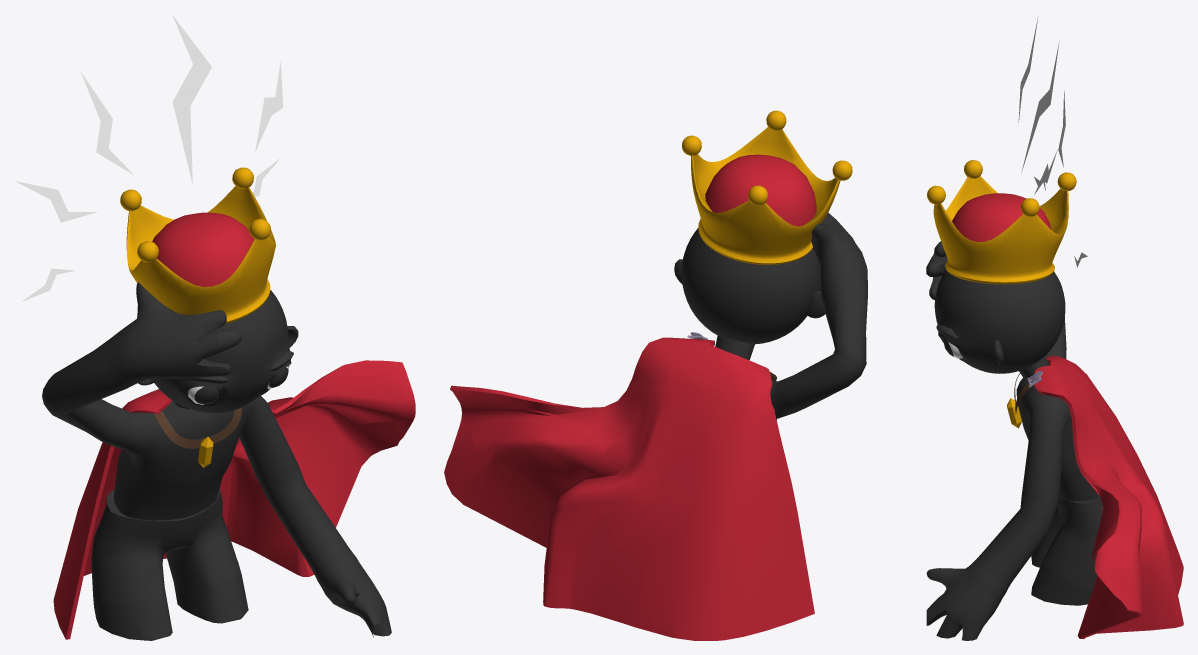
Rendered from HatKingCrown.glb.
3 views of the same model, side by side, from view 1: azimuth 30°, elevation 25°; view 2: azimuth 150°, elevation 25°; view 3: azimuth 270°, elevation 25° (orthographic). The views are drawn at different scales.
Visible parts, largest first — view 1: King; view 2: King; view 3: King.
Boxes of the visible parts, left/top/right/bottom form: King: left=15, top=14, right=415, bottom=640; King: left=444, top=110, right=867, bottom=640; King: left=926, top=16, right=1183, bottom=640.
Bounding box in the file's own units: 2.31 × 3.13 × 1.37.
2 materials, 2 textured.
